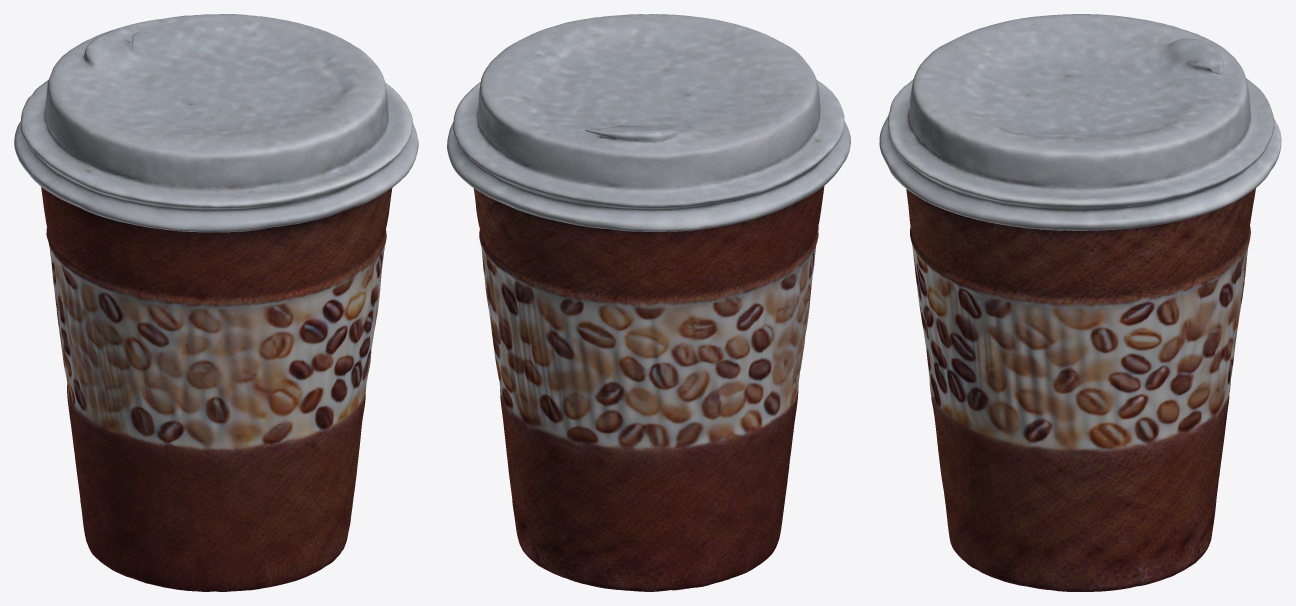
Rendered from 0d68fd1005b8_coffee_min.fbx.
The picture shows the model from 3 angles, left to right: view 1: azimuth 30°, elevation 25°; view 2: azimuth 150°, elevation 25°; view 3: azimuth 270°, elevation 25°; orthographic projection.
Visible parts, largest first — view 1: high_poly; view 2: high_poly; view 3: high_poly.
Boxes of the visible parts, x1,y1,x2,y2 form: high_poly: (14, 14, 418, 591); high_poly: (447, 14, 850, 591); high_poly: (879, 14, 1281, 591).
Size of the model in its own units: 78.26 by 100 by 78.22.
